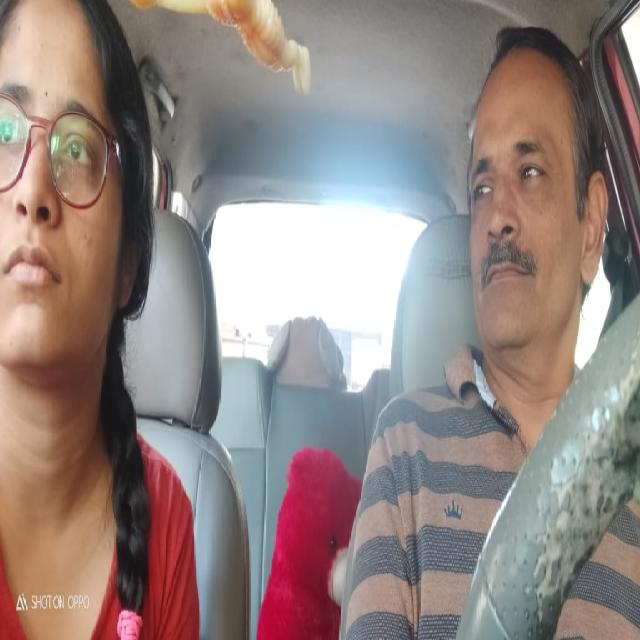LeftRight: (460, 14, 610, 356)
person: (0, 0, 154, 401)
